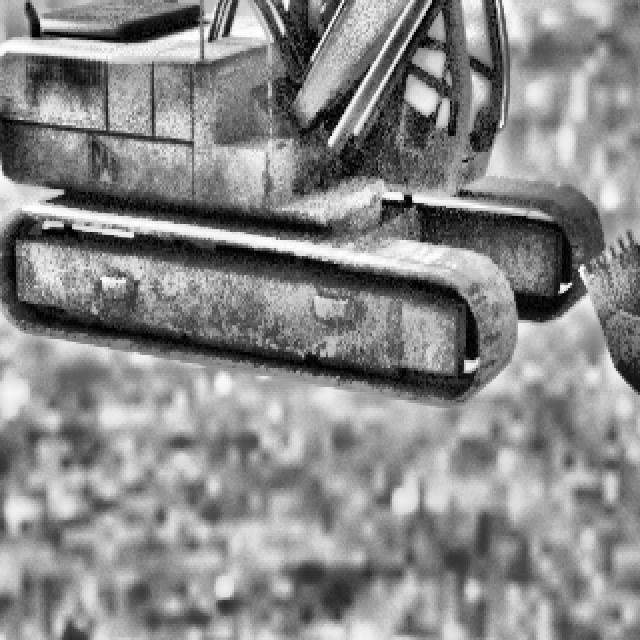excavator: (0, 0, 640, 405)
